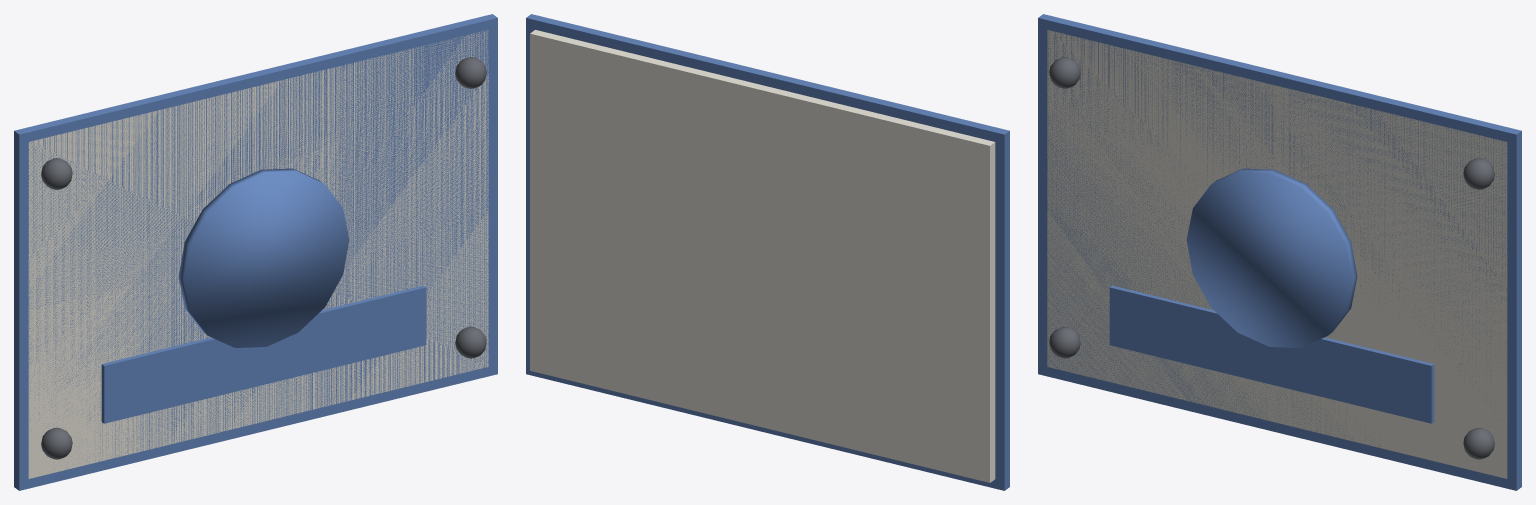
The model's file is prop_kanban_horo_b.glb.
3 views of the same model, side by side, from view 1: azimuth 30°, elevation 25°; view 2: azimuth 150°, elevation 25°; view 3: azimuth 330°, elevation 25° (orthographic).
Visible parts, largest first — view 1: kanban_horo_b; view 2: kanban_horo_b; view 3: kanban_horo_b.
Part boxes in pixels (left/top/right/bottom): kanban_horo_b: left=14, top=14, right=497, bottom=490; kanban_horo_b: left=526, top=14, right=1009, bottom=490; kanban_horo_b: left=1038, top=14, right=1521, bottom=490.
Size of the model in its own units: 1.04 by 0.74 by 0.09.
